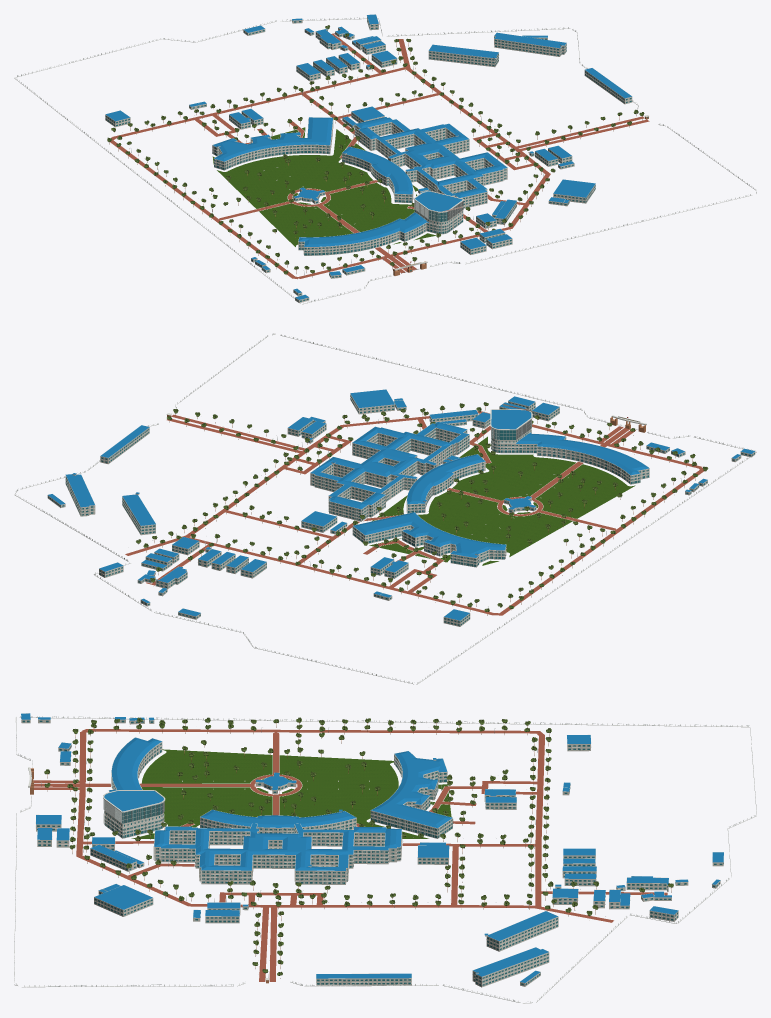
Rendered from an-giang-university.glb.
The picture shows the model from 3 angles, top to bottom: view 1: azimuth 30°, elevation 25°; view 2: azimuth 150°, elevation 25°; view 3: azimuth 270°, elevation 25°; orthographic projection. The views are drawn at different scales.
Parts seen in each view (by area): view 1: AGU_Detailed_roof, AGU_Detailed_wall, AGU_Detailed_grass, AGU_Detailed_trim, AGU_Detailed_paving, AGU_Detailed_glass, AGU_Detailed_green, AGU_Detailed_metal, AGU_Detailed_ochre; view 2: AGU_Detailed_roof, AGU_Detailed_wall, AGU_Detailed_grass, AGU_Detailed_trim, AGU_Detailed_paving, AGU_Detailed_glass, AGU_Detailed_green, AGU_Detailed_metal, AGU_Detailed_ochre; view 3: AGU_Detailed_roof, AGU_Detailed_wall, AGU_Detailed_grass, AGU_Detailed_paving, AGU_Detailed_trim, AGU_Detailed_glass, AGU_Detailed_green, AGU_Detailed_metal, AGU_Detailed_ochre.
Boxes of the visible parts, x1=… form: AGU_Detailed_roof: x1=106, y1=14, x2=631, y2=299; AGU_Detailed_wall: x1=105, y1=18, x2=632, y2=302; AGU_Detailed_grass: x1=212, y1=127, x2=435, y2=246; AGU_Detailed_trim: x1=14, y1=14, x2=756, y2=304; AGU_Detailed_paving: x1=110, y1=33, x2=649, y2=279; AGU_Detailed_glass: x1=105, y1=17, x2=648, y2=301; AGU_Detailed_green: x1=107, y1=25, x2=644, y2=274; AGU_Detailed_metal: x1=17, y1=17, x2=747, y2=301; AGU_Detailed_ochre: x1=109, y1=37, x2=648, y2=277; AGU_Detailed_roof: x1=48, y1=389, x2=754, y2=620; AGU_Detailed_wall: x1=47, y1=394, x2=755, y2=626; AGU_Detailed_grass: x1=369, y1=436, x2=635, y2=565; AGU_Detailed_trim: x1=14, y1=333, x2=756, y2=684; AGU_Detailed_paving: x1=125, y1=411, x2=703, y2=615; AGU_Detailed_glass: x1=48, y1=395, x2=754, y2=625; AGU_Detailed_green: x1=136, y1=402, x2=708, y2=611; AGU_Detailed_metal: x1=15, y1=334, x2=752, y2=682; AGU_Detailed_ochre: x1=146, y1=406, x2=695, y2=615; AGU_Detailed_roof: x1=21, y1=713, x2=723, y2=982; AGU_Detailed_wall: x1=21, y1=717, x2=723, y2=987; AGU_Detailed_grass: x1=131, y1=749, x2=451, y2=838; AGU_Detailed_paving: x1=34, y1=729, x2=667, y2=981; AGU_Detailed_trim: x1=14, y1=713, x2=756, y2=1003; AGU_Detailed_glass: x1=22, y1=720, x2=723, y2=985; AGU_Detailed_green: x1=44, y1=717, x2=673, y2=975; AGU_Detailed_metal: x1=14, y1=716, x2=755, y2=1002; AGU_Detailed_ochre: x1=30, y1=722, x2=671, y2=983.
Bounding box in the file's own units: 653 × 30 × 716.
11 materials, 6 textured.
